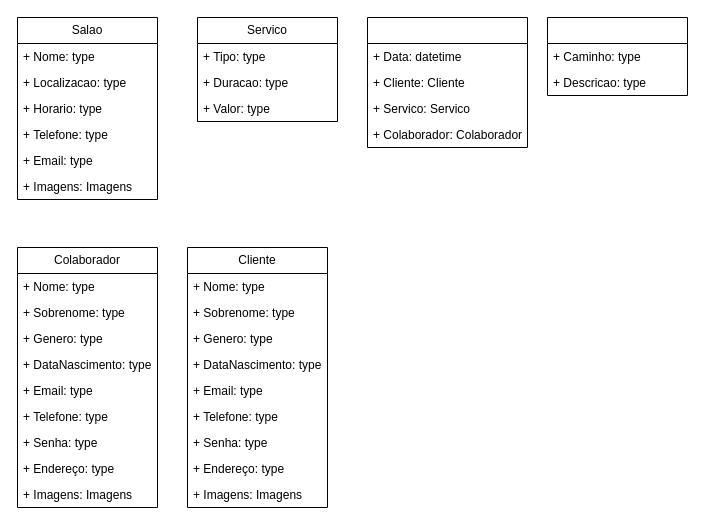
Some shapes in this 705 by 528 pixel diagram are drawn without their labels. Each missing label, with the box of its shape:
Agendamento: (366, 16, 528, 148)
Imagem: (546, 16, 688, 96)
